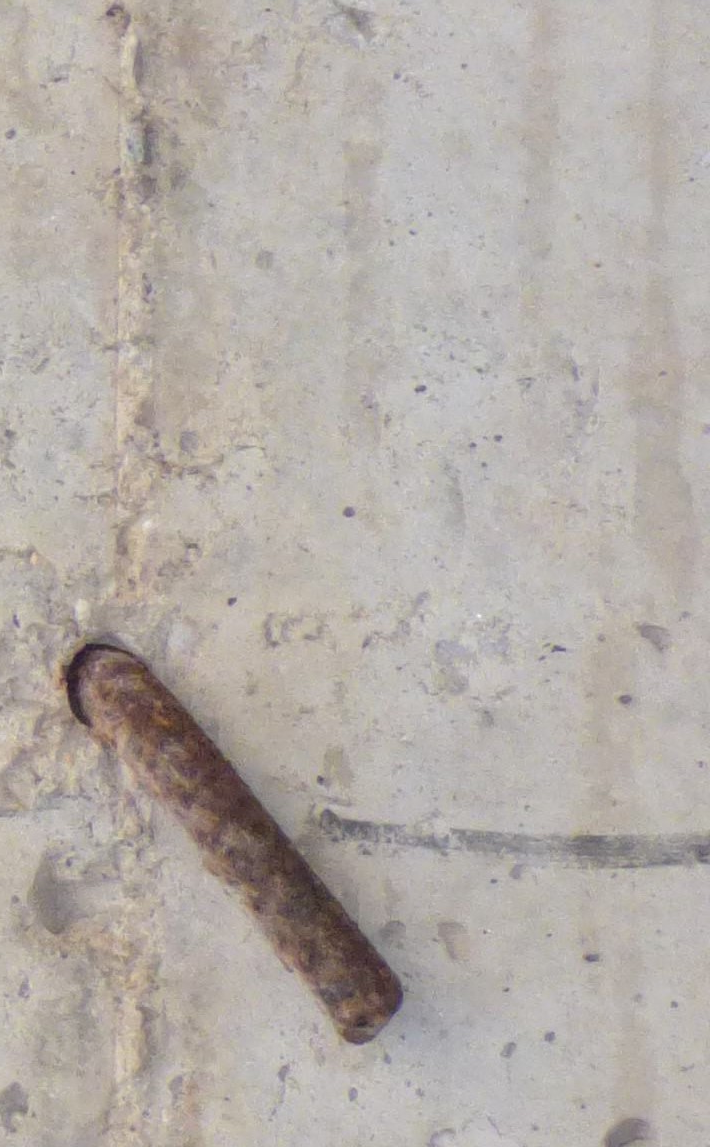Exposed reinforcement: (76, 648, 404, 1045)
